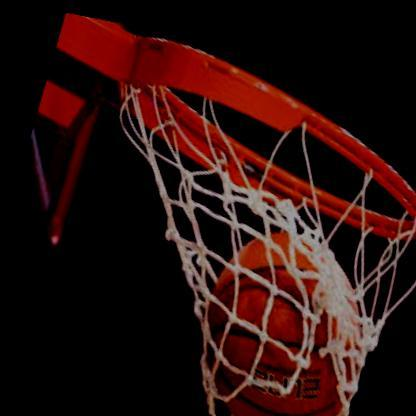basketball: (152, 181, 400, 416)
rim: (63, 10, 416, 272)
